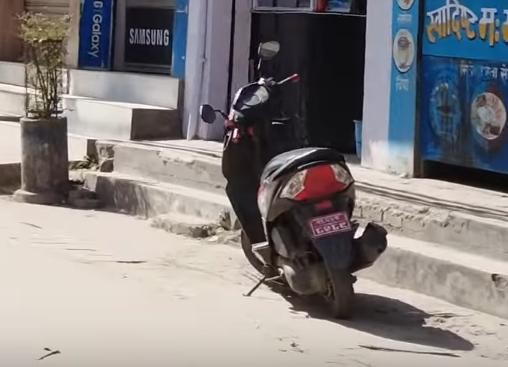scooter: (201, 37, 397, 342)
